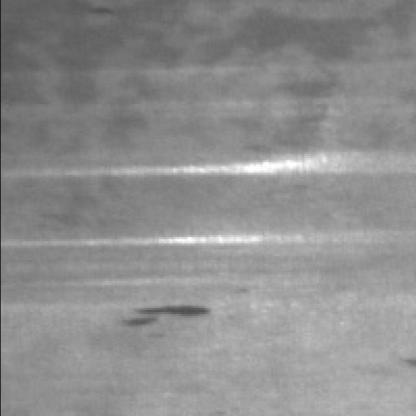inclusion: (123, 301, 216, 330)
scratches: (14, 150, 400, 185), (2, 224, 316, 254)
